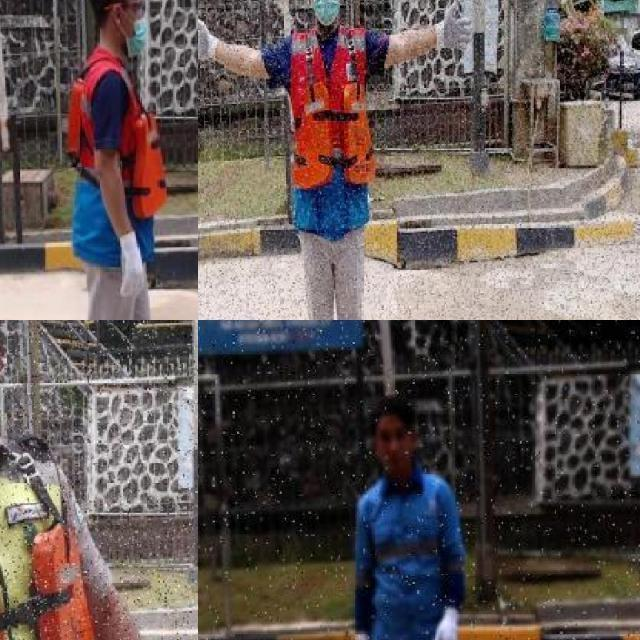apron: (434, 0, 471, 53), (116, 230, 144, 300), (428, 595, 468, 640), (198, 12, 220, 69), (347, 624, 378, 640)
